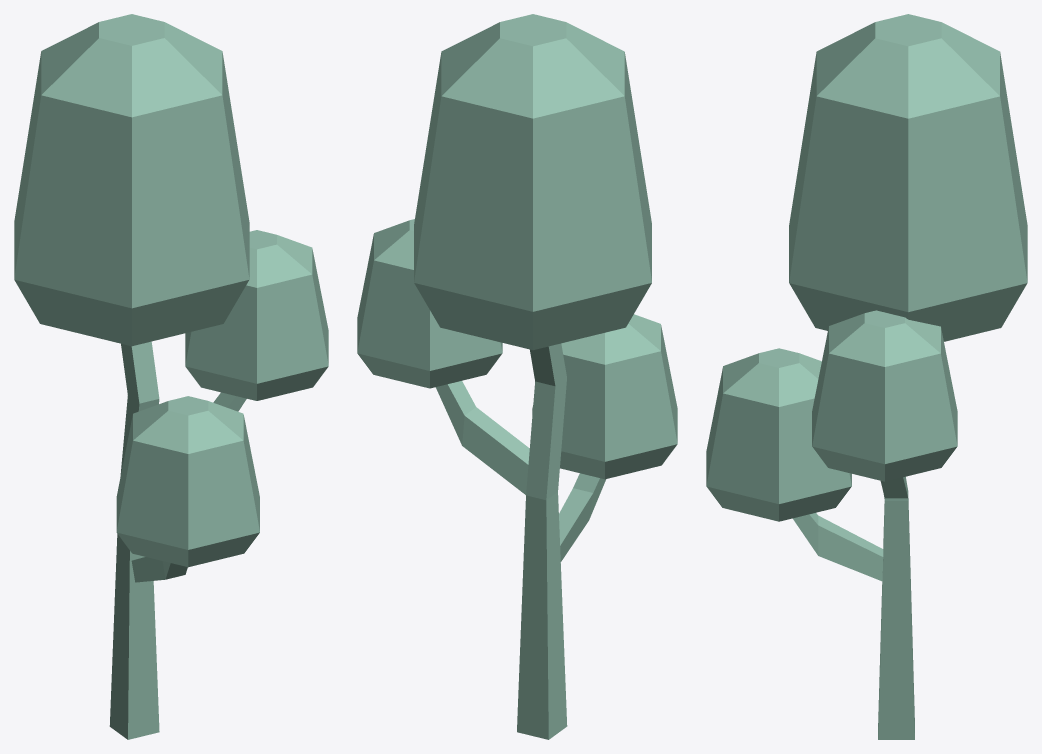
Rendered from naturePack_066.fbx.
The picture shows the model from 3 angles, left to right: view 1: azimuth 30°, elevation 25°; view 2: azimuth 150°, elevation 25°; view 3: azimuth 270°, elevation 25°; orthographic projection.
Visible parts, largest first — view 1: naturePack_066; view 2: naturePack_066; view 3: naturePack_066.
Boxes of the visible parts, x1=… form: naturePack_066: x1=14, y1=14, x2=328, y2=739; naturePack_066: x1=357, y1=14, x2=677, y2=739; naturePack_066: x1=706, y1=14, x2=1027, y2=739.
Bounding box in the file's own units: 272 × 596 × 247.
